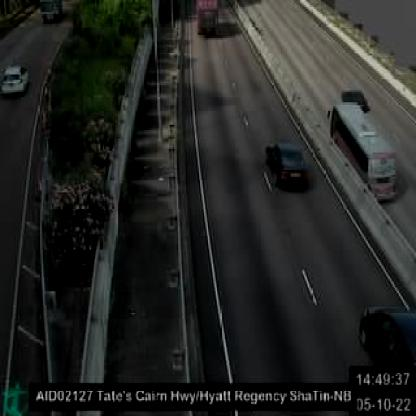Bus: (326, 99, 398, 203)
Car: (355, 307, 412, 362), (264, 140, 309, 192)
Truck: (194, 0, 218, 40)
